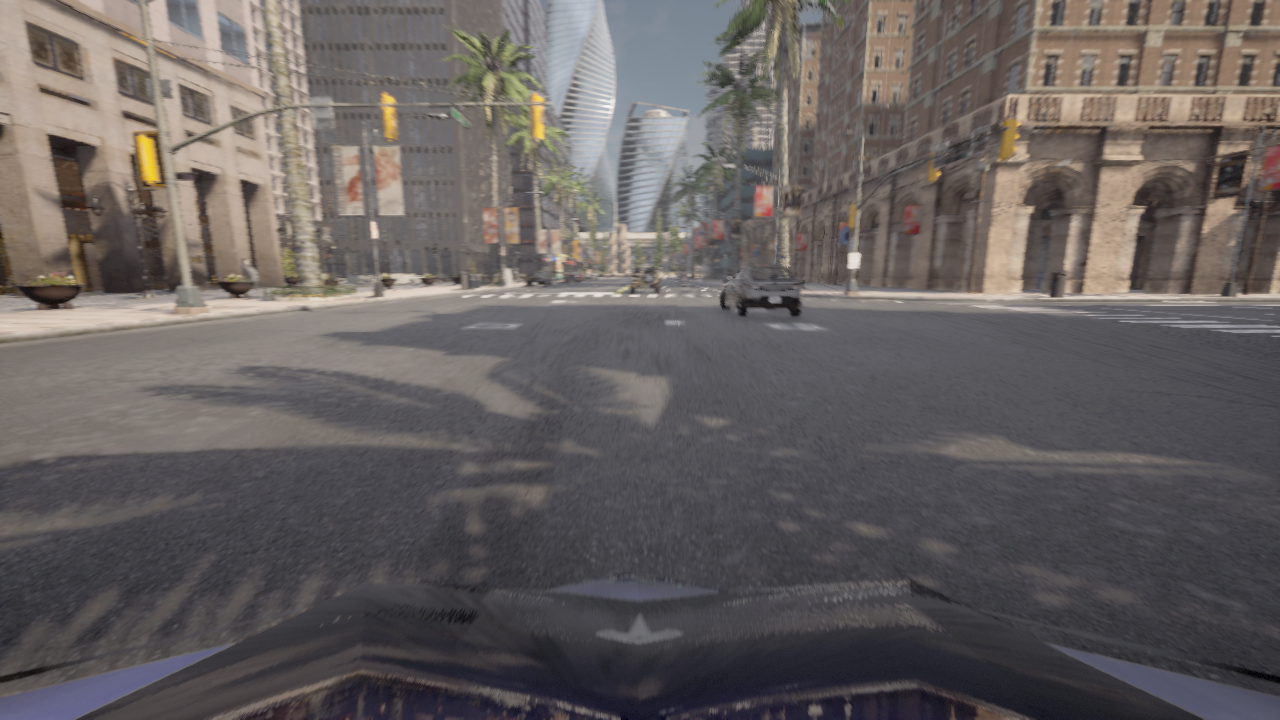cyclist: (0, 569, 1279, 719), (719, 265, 802, 316), (630, 264, 659, 292), (526, 271, 552, 286), (564, 271, 582, 282), (588, 272, 598, 279), (682, 278, 685, 287), (582, 276, 585, 281)
